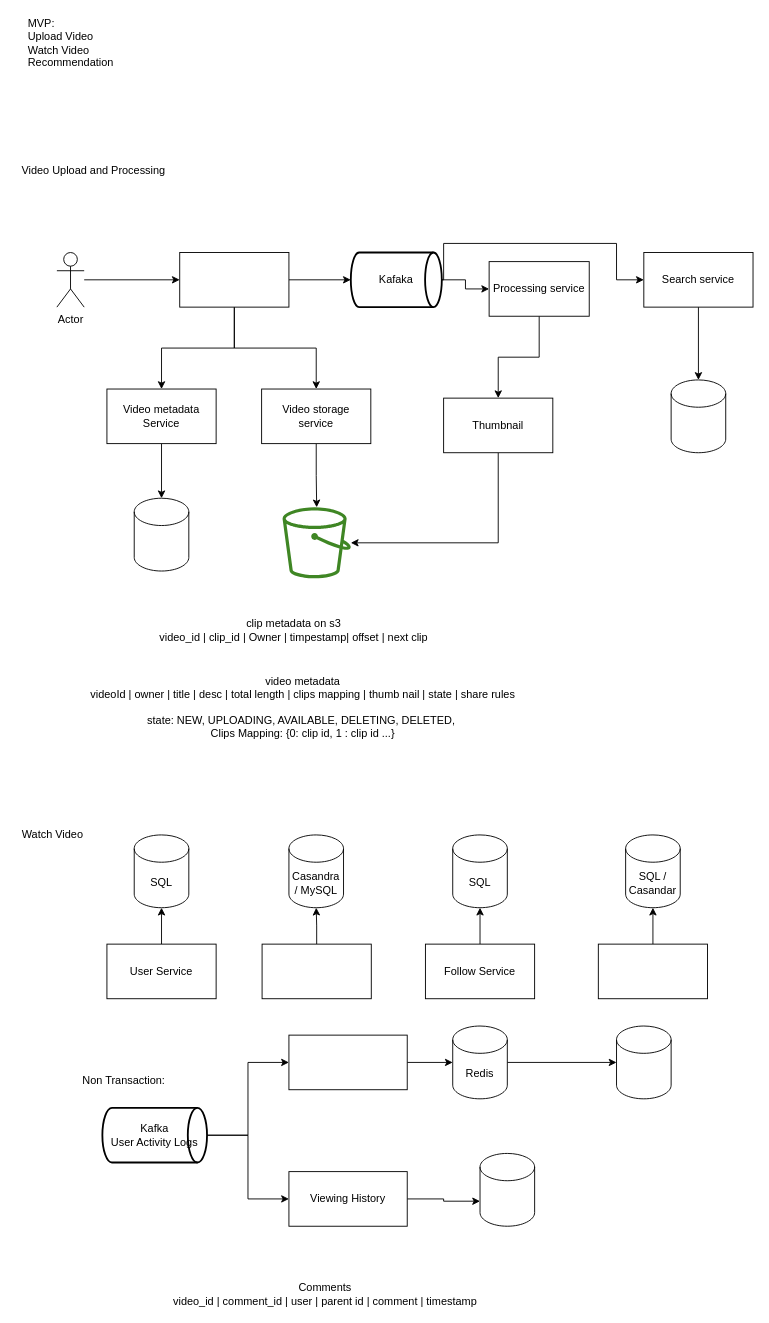
Some shapes in this 769 by 1323 pixel diagram are drawn without their labels. The box of each missing label's shape, as (x1, y1, x2, y2) in pixels:
Casandra: (479, 1153, 535, 1226)
Channel Service: (597, 943, 708, 999)
Comment Service: (261, 943, 371, 999)
DynamoDB: (616, 1025, 671, 1099)
Elastic Search: (670, 379, 726, 453)
Popularity: (288, 1034, 407, 1090)
SQL/ Cansandra: (133, 497, 189, 571)
Video upload Service: (179, 252, 289, 307)
